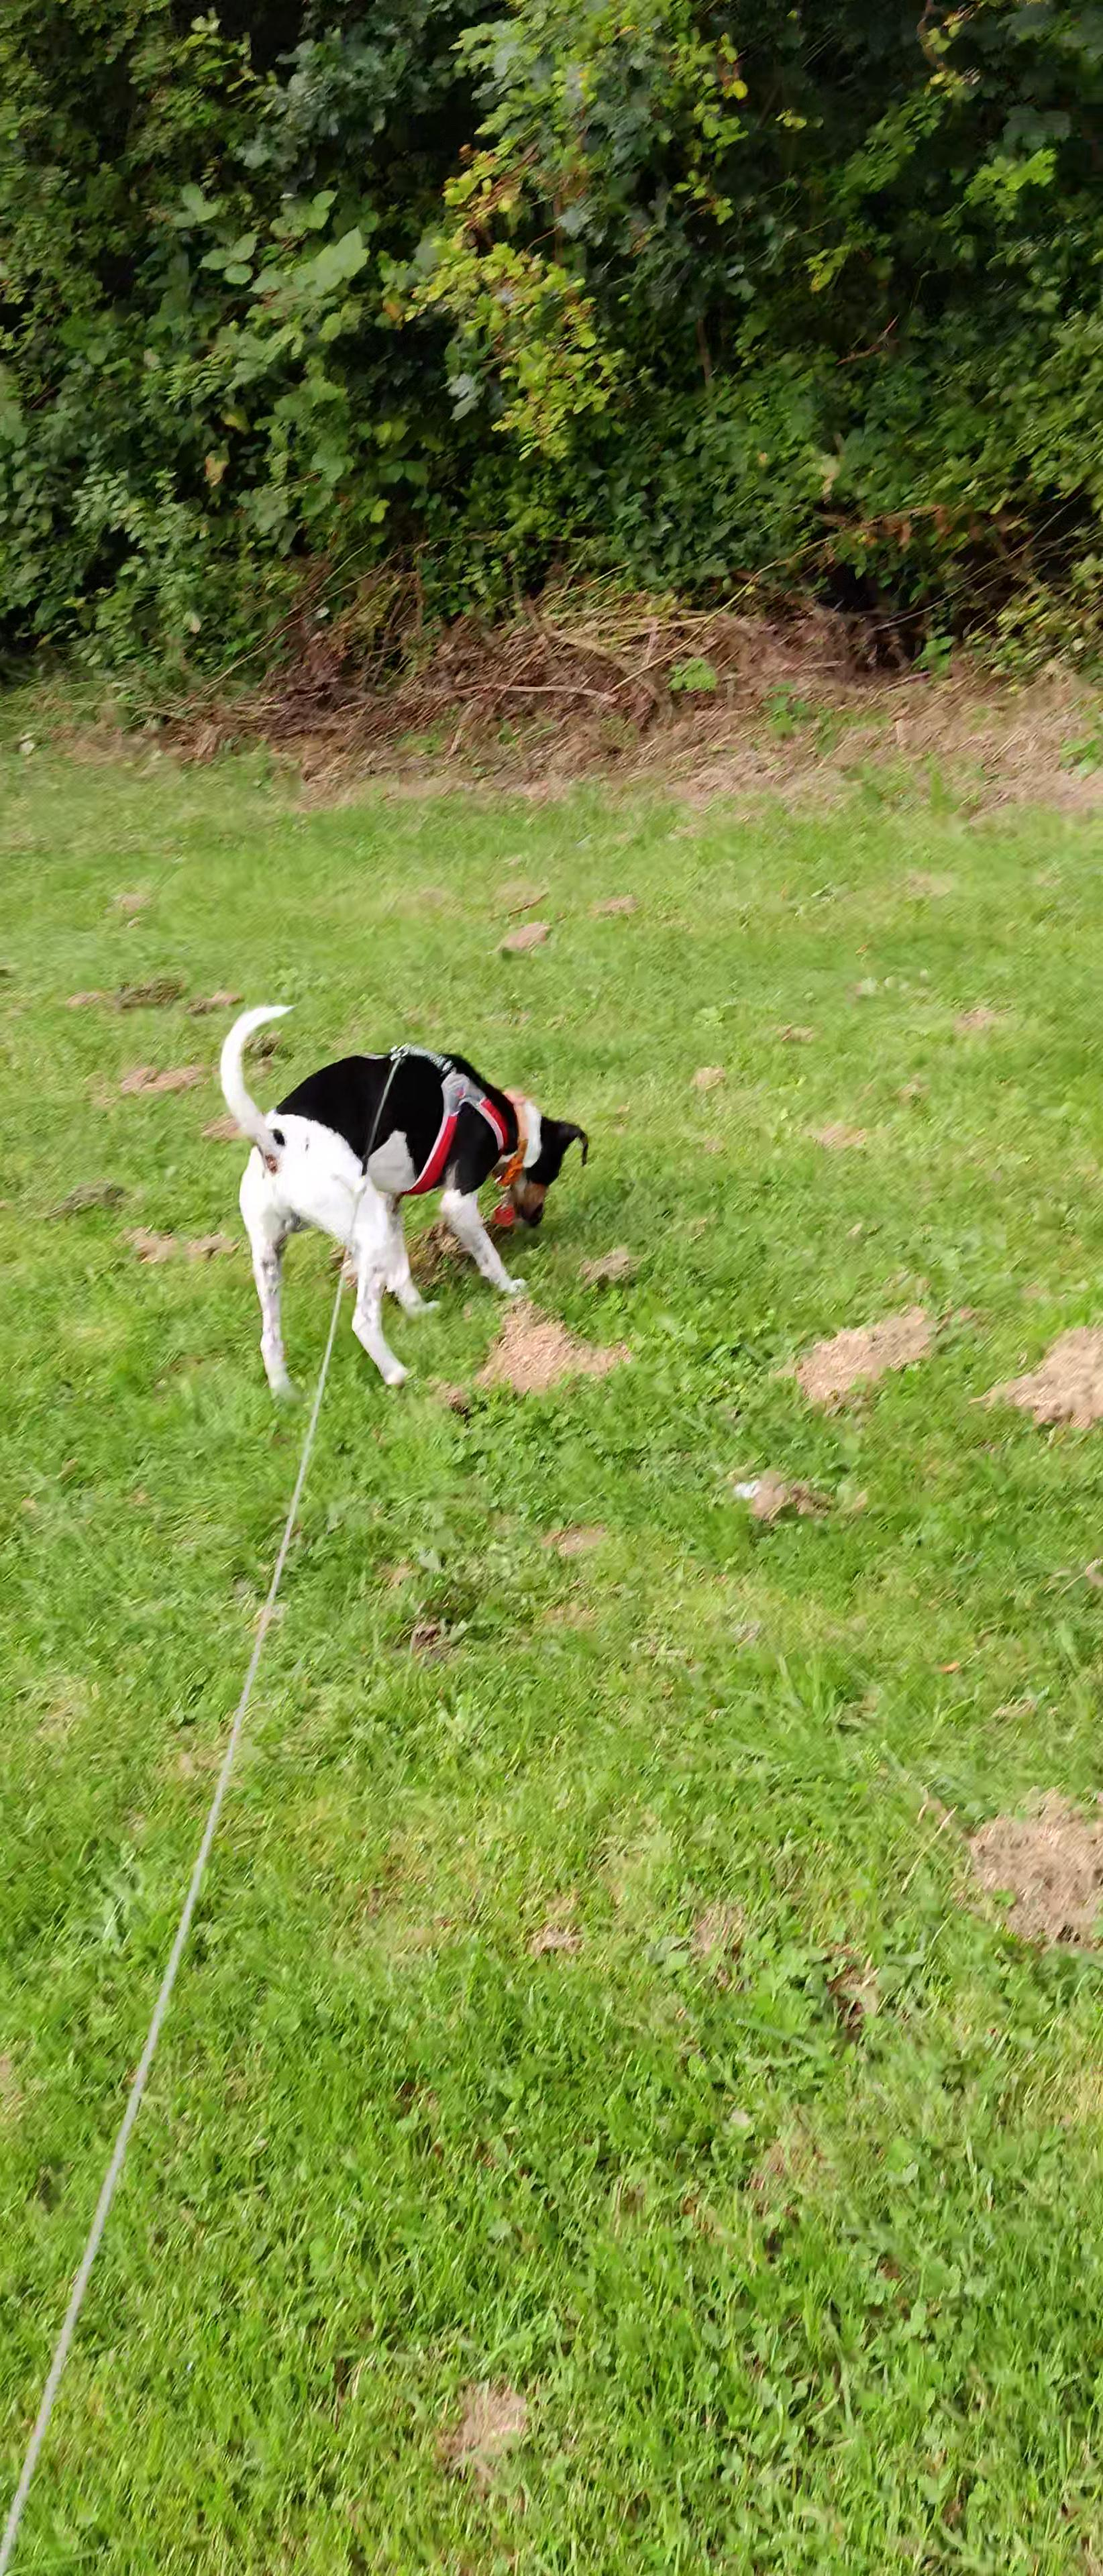Dog: (210, 999, 600, 1400)
